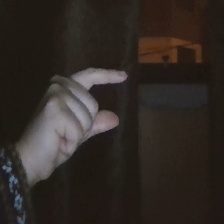G: (27, 64, 135, 186)
